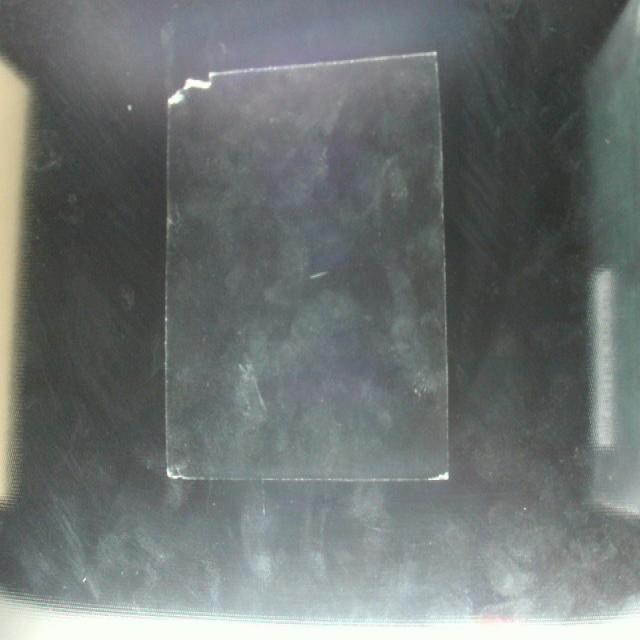edge_chip: (162, 67, 226, 120), (161, 450, 195, 502), (428, 458, 450, 488)
scratch: (304, 250, 338, 318)
